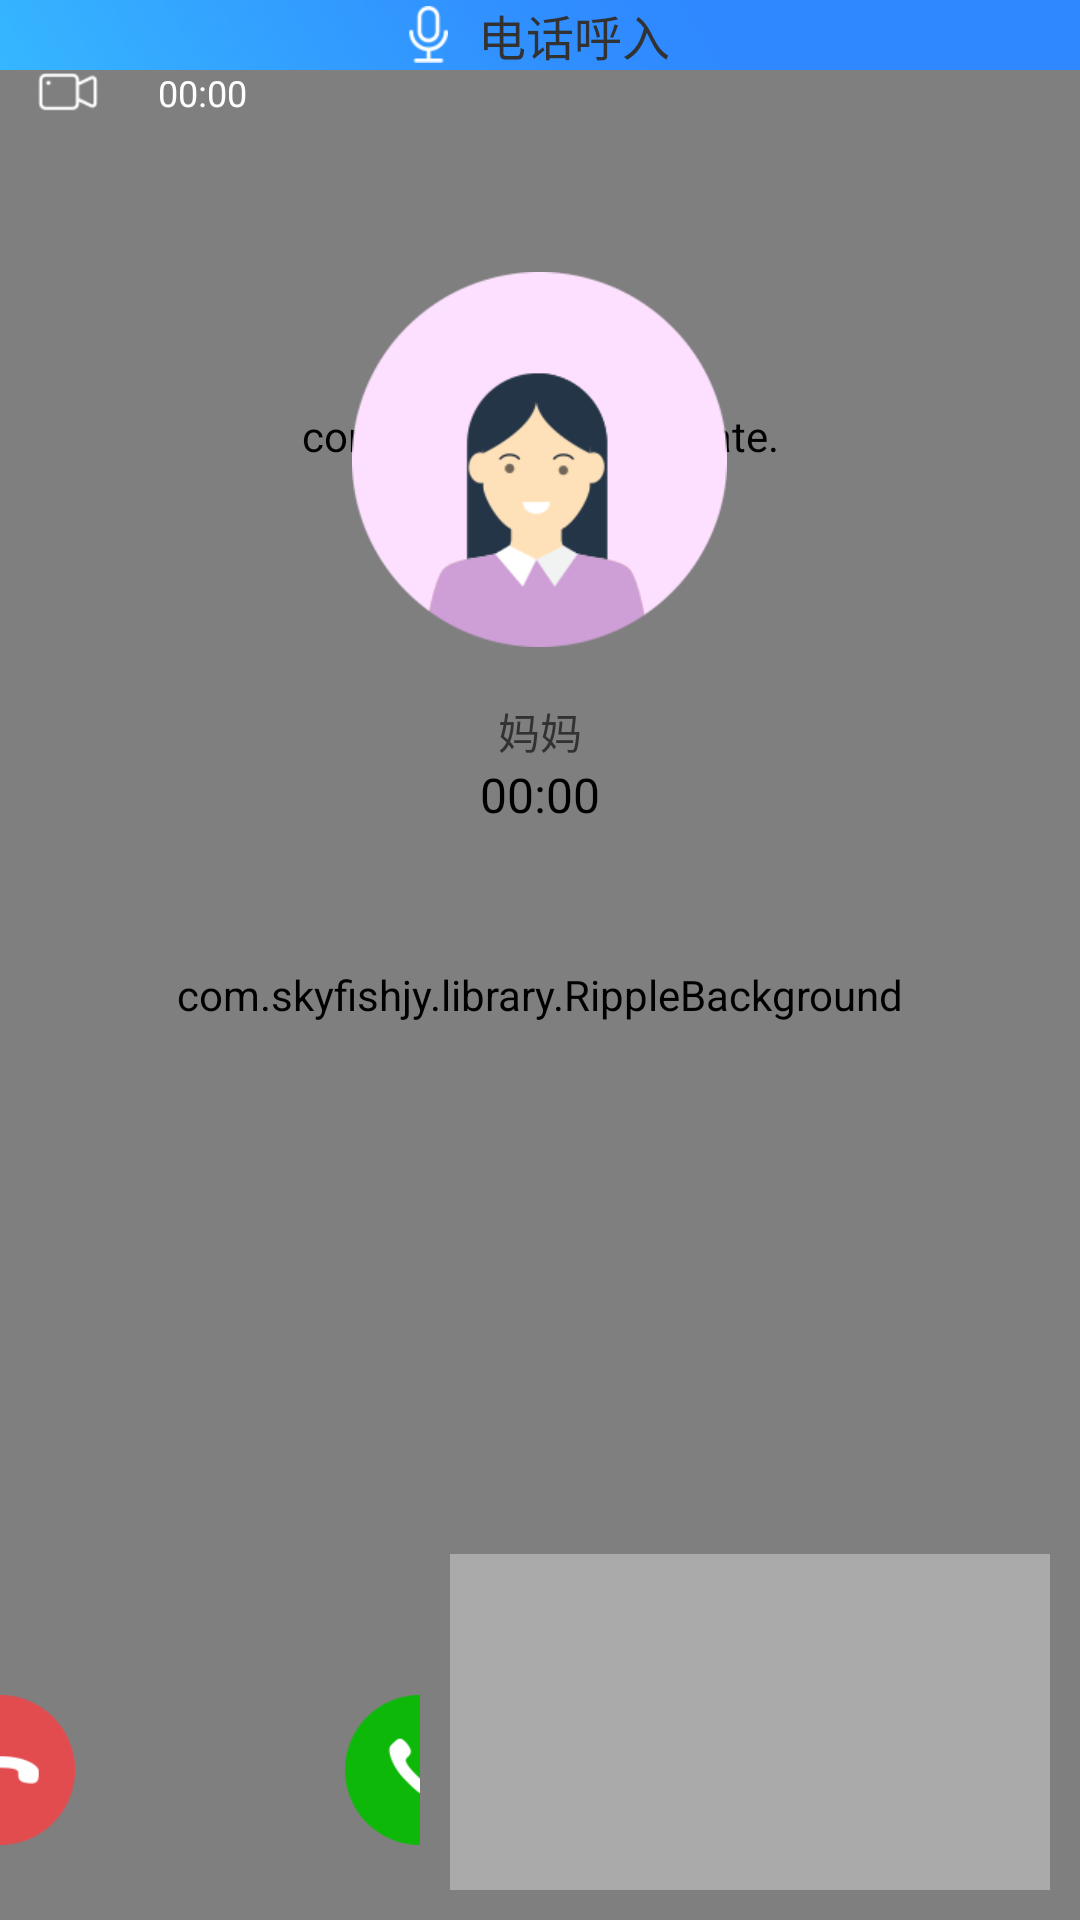

Screen size 1080 x 1920. Icon name, then its box in pixels as [x1,y1,x2,y2]:
audio: [409,6,448,63]
video: [39,73,97,110]
